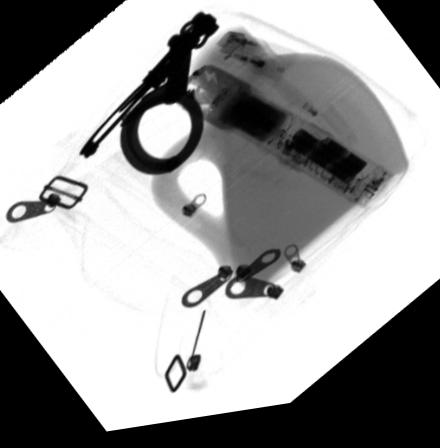Baton: (172, 67, 393, 220)
HandCuffs: (78, 15, 220, 181)
Lighter: (206, 38, 297, 88)
